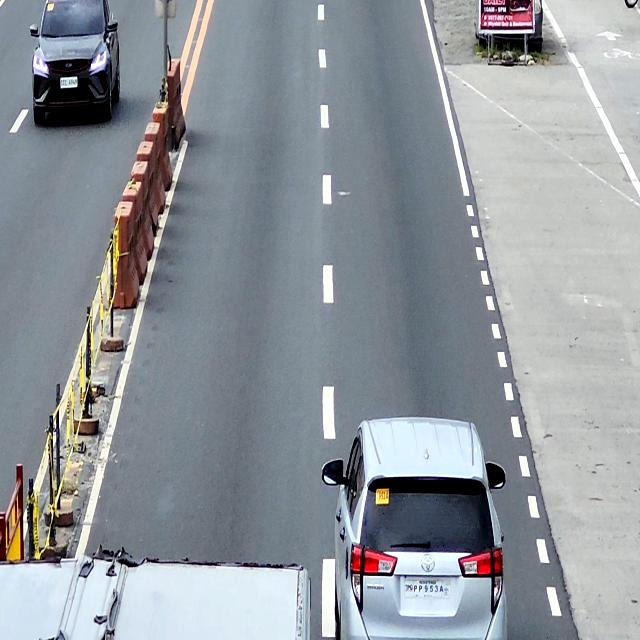Car: (322, 415, 509, 640), (30, 0, 121, 124)
License-Plate: (403, 579, 452, 599), (59, 77, 79, 89)
